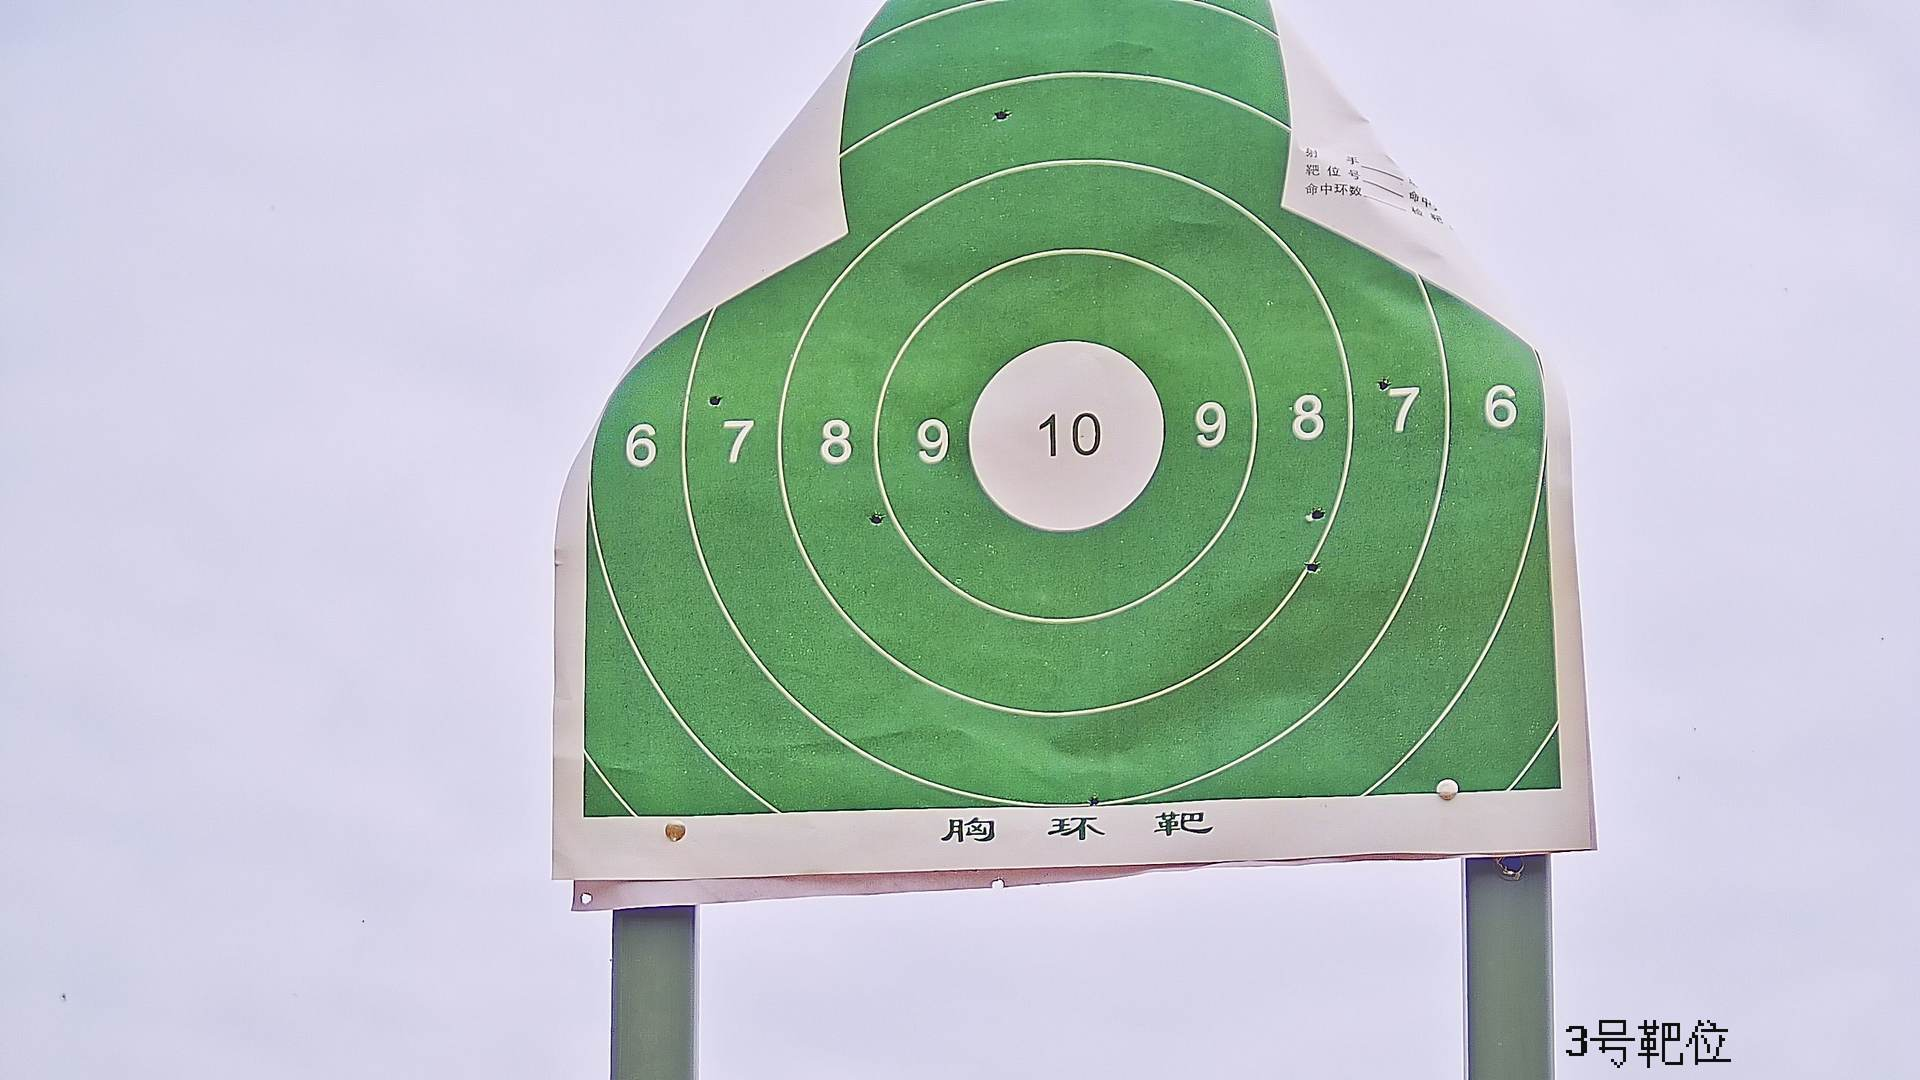hole: (1308, 504, 1324, 522), (869, 510, 886, 525), (1378, 375, 1393, 392), (708, 396, 723, 407), (1087, 794, 1101, 804), (1308, 556, 1317, 572), (994, 108, 1009, 117)
kernel: (1065, 436, 1069, 438)
target: (578, 3, 1569, 819)
ten: (968, 336, 1168, 535)
